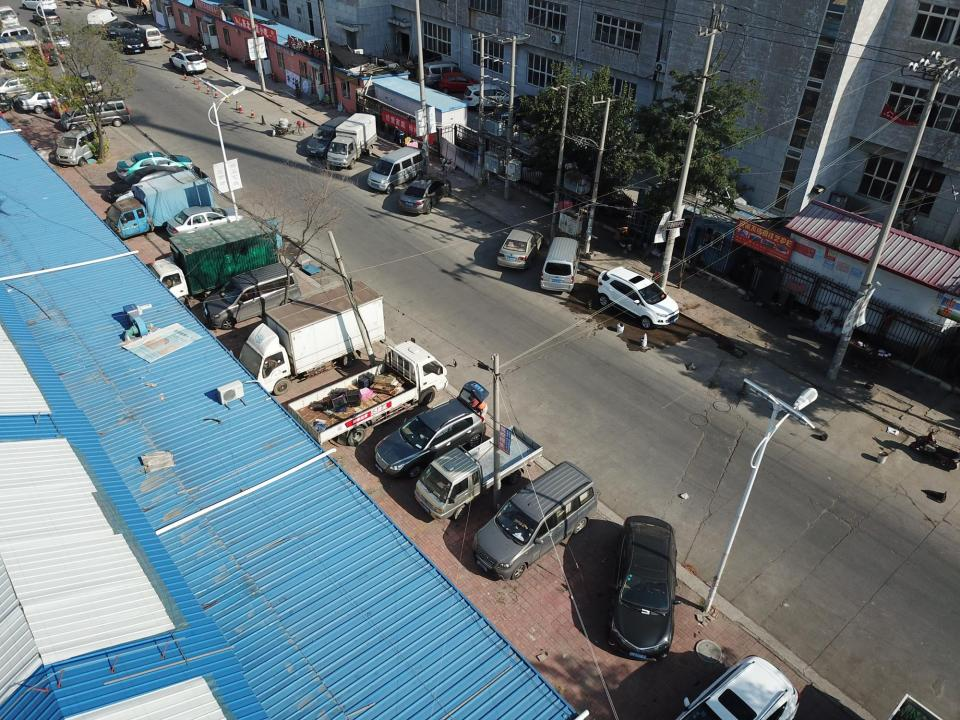car: (372, 380, 487, 480), (605, 514, 682, 662), (659, 654, 801, 720), (596, 266, 680, 329), (104, 164, 189, 205), (115, 150, 196, 186), (165, 205, 247, 240), (496, 227, 544, 271), (398, 176, 452, 215), (17, 88, 81, 114), (50, 92, 107, 118), (0, 75, 39, 99), (169, 50, 207, 74), (68, 71, 102, 94), (2, 47, 34, 71), (34, 42, 65, 66), (103, 20, 139, 40), (32, 8, 62, 26)
truck: (286, 337, 458, 448), (236, 277, 389, 396), (413, 423, 545, 522), (143, 216, 281, 306), (104, 167, 216, 248), (326, 112, 378, 170), (0, 5, 21, 29)
van: (470, 459, 598, 582), (201, 260, 302, 332), (366, 145, 426, 194), (59, 96, 130, 132), (55, 122, 109, 168), (539, 236, 583, 292), (305, 115, 353, 160), (40, 24, 72, 50), (115, 28, 146, 54), (86, 9, 118, 34), (134, 25, 164, 48), (0, 24, 32, 42), (21, 0, 57, 12)
